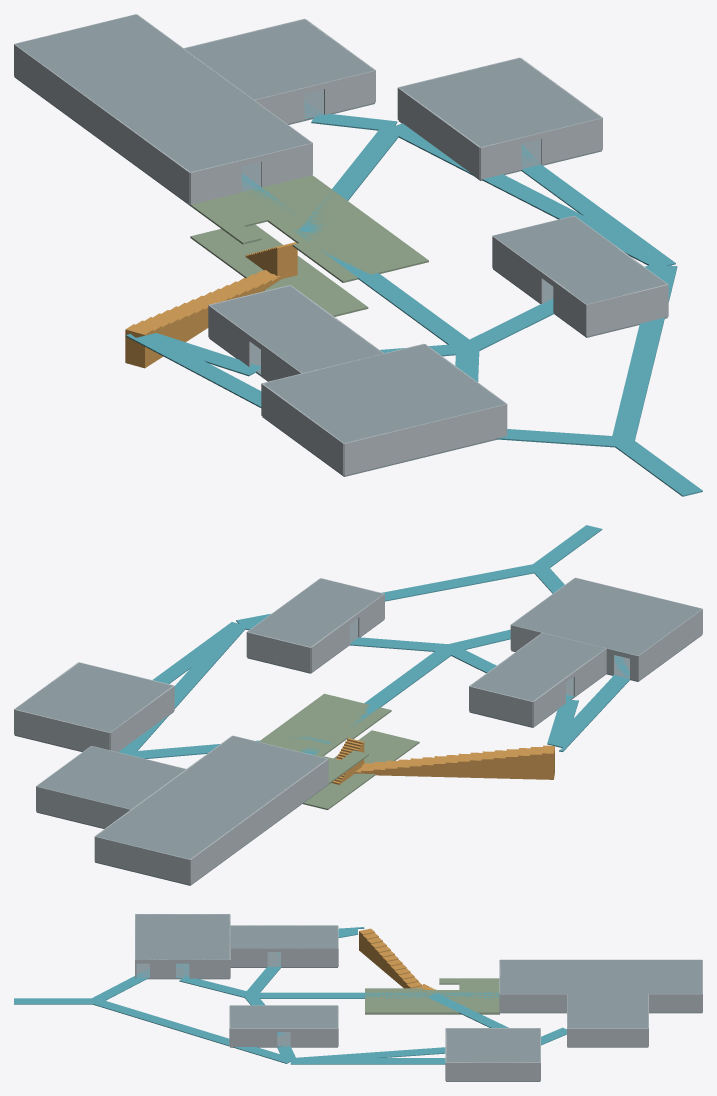
File: rough-shell.glb
The picture shows the model from 3 angles, top to bottom: view 1: azimuth 30°, elevation 25°; view 2: azimuth 150°, elevation 25°; view 3: azimuth 270°, elevation 25°; orthographic projection. The views are drawn at different scales.
Visible parts, largest first — view 1: Ceiling cap tunnel, Ceiling cap signal, Ceiling cap store, Ceiling cap refuge, Ceiling cap coach-b, Ceiling cap coach-a, Wall tunnel W, Wall signal S, Floor lower, Floor trestle.008, L04 support 0, L14 support 0 (+30 smaller); view 2: Ceiling cap tunnel, Ceiling cap signal, Ceiling cap store, Ceiling cap refuge, Ceiling cap coach-b, Ceiling cap coach-a, Wall tunnel W, Wall tunnel N, Floor trestle.008, Floor lower, Wall store N, Wall refuge N (+21 smaller); view 3: Ceiling cap tunnel, Ceiling cap signal, Ceiling cap store, Ceiling cap refuge, Ceiling cap coach-a, Ceiling cap coach-b, Wall store E, Wall refuge E, L04 support 0, Floor trestle.008, Wall tunnel E.001, Wall coach-a E (+20 smaller).
Boxes of the visible parts, box(x1,y1,x2,y2) form: Ceiling cap tunnel: box(15, 14, 311, 172); Ceiling cap signal: box(263, 344, 505, 442); Ceiling cap store: box(399, 58, 601, 146); Ceiling cap refuge: box(184, 19, 374, 99); Ceiling cap coach-b: box(493, 216, 666, 304); Ceiling cap coach-a: box(210, 286, 383, 373); Wall tunnel W: box(14, 44, 190, 204); Wall signal S: box(344, 404, 506, 475); Floor lower: box(190, 224, 368, 316); Floor trestle.008: box(299, 223, 428, 281); L04 support 0: box(612, 265, 677, 441); L14 support 0: box(386, 123, 665, 265); Ceiling cap tunnel: box(96, 736, 326, 859); Ceiling cap signal: box(511, 578, 701, 655); Ceiling cap store: box(15, 662, 172, 732); Ceiling cap refuge: box(37, 746, 185, 809); Ceiling cap coach-b: box(248, 578, 383, 646); Ceiling cap coach-a: box(470, 633, 605, 701); Wall tunnel W: box(190, 759, 328, 884); Wall tunnel N: box(94, 836, 190, 884); Floor trestle.008: box(285, 693, 385, 737); Floor lower: box(303, 730, 419, 809); Wall store N: box(14, 709, 109, 751); Wall refuge N: box(36, 786, 130, 828); Ceiling cap tunnel: box(500, 960, 702, 993); Ceiling cap signal: box(135, 914, 229, 959); Ceiling cap store: box(446, 1028, 540, 1062); Ceiling cap refuge: box(567, 994, 648, 1027); Ceiling cap coach-a: box(230, 925, 337, 948); Ceiling cap coach-b: box(230, 1005, 337, 1027); Wall store E: box(446, 1062, 540, 1081); Wall refuge E: box(567, 1028, 648, 1046); L04 support 0: box(91, 999, 293, 1063); Floor trestle.008: box(365, 990, 422, 1013); Wall tunnel E.001: box(500, 994, 566, 1012); Wall coach-a E: box(281, 948, 337, 966).
Size of the model in its own units: 54.07 by 6.16 by 102.
